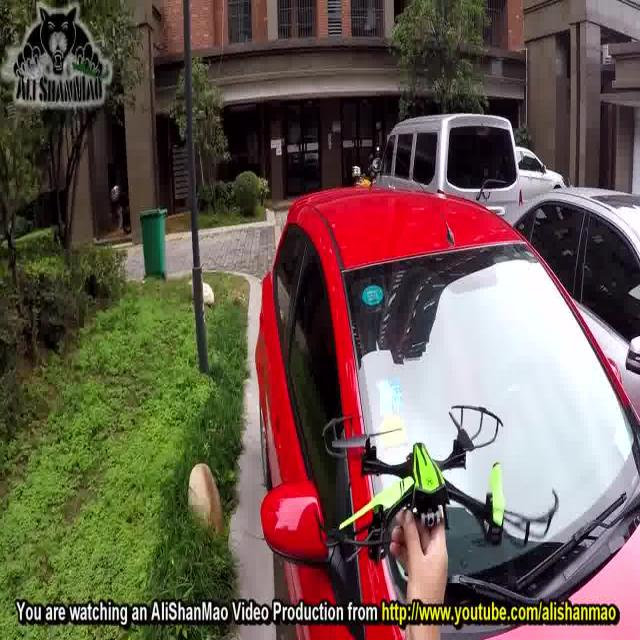drones: (308, 392, 566, 580)
